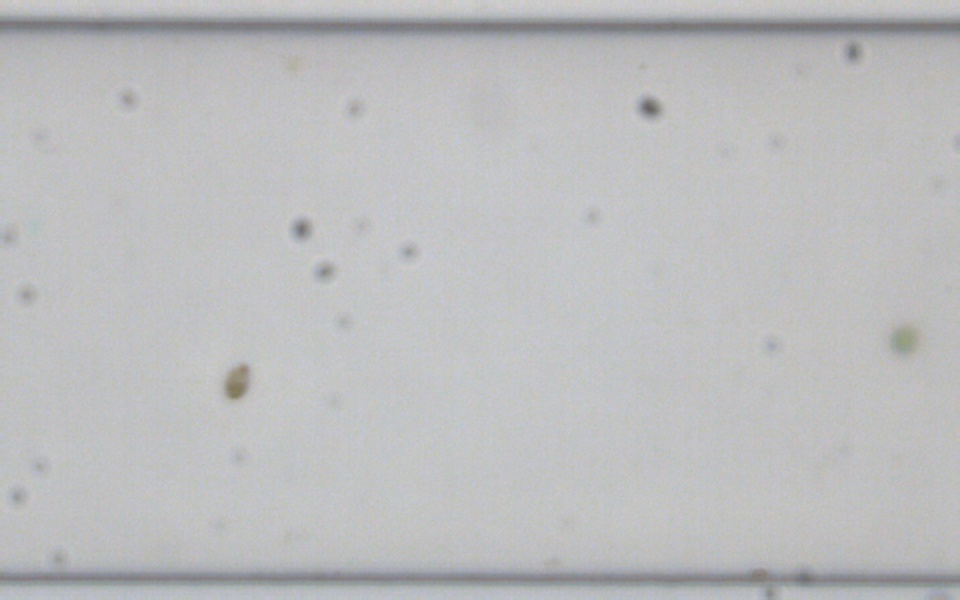Chlorella: (891, 327, 916, 353)
Dunaliella salina: (222, 361, 251, 400)
